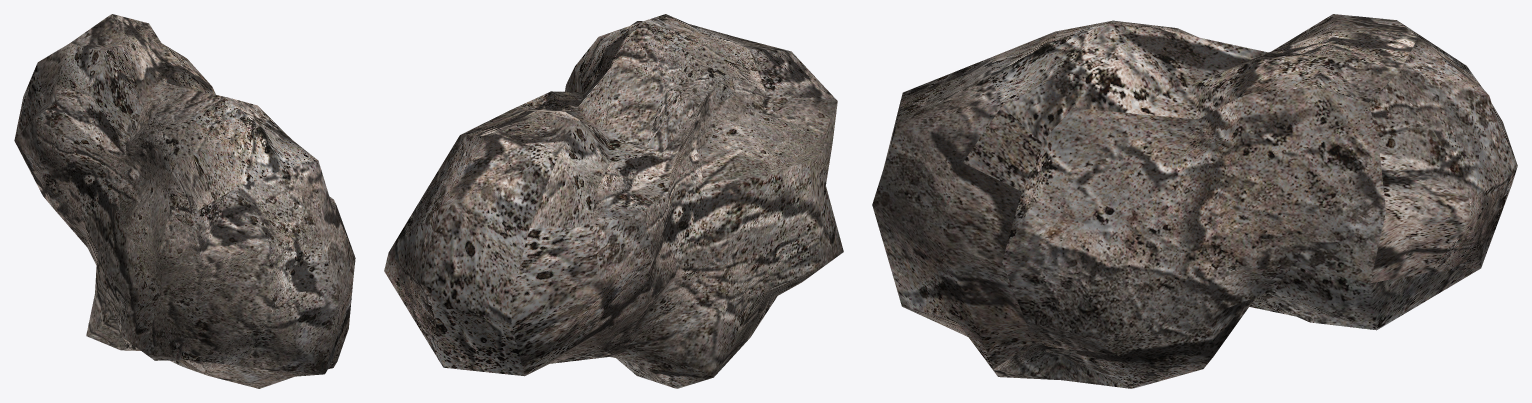
Rendered from Rock_10x10_C.FBX.
The picture shows the model from 3 angles, left to right: view 1: azimuth 30°, elevation 25°; view 2: azimuth 150°, elevation 25°; view 3: azimuth 270°, elevation 25°; orthographic projection. The views are drawn at different scales.
Visible parts, largest first — view 1: Rock_10x10_C; view 2: Rock_10x10_C; view 3: Rock_10x10_C.
Boxes of the visible parts, <box> form: Rock_10x10_C: <box>14,14,355,388</box>; Rock_10x10_C: <box>384,14,843,388</box>; Rock_10x10_C: <box>872,14,1517,388</box>.
Size of the model in its own units: 6.91 by 8.27 by 13.92.
Materials: 1 (1 with a texture image).
